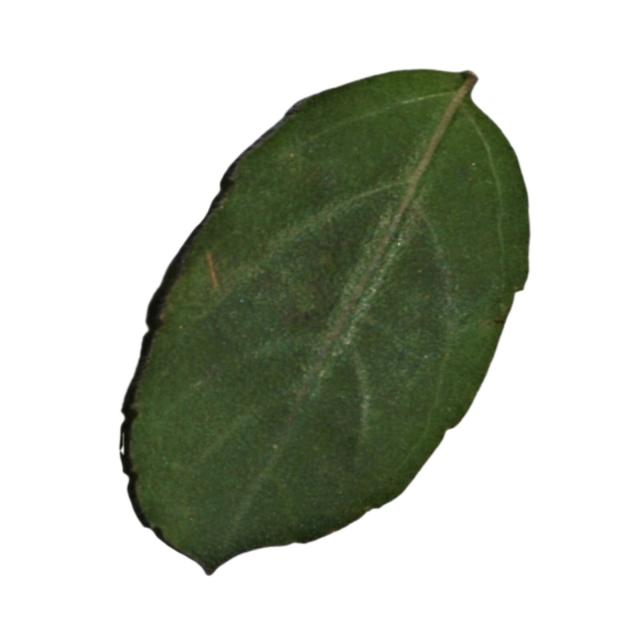tulsi: (115, 65, 528, 564)
